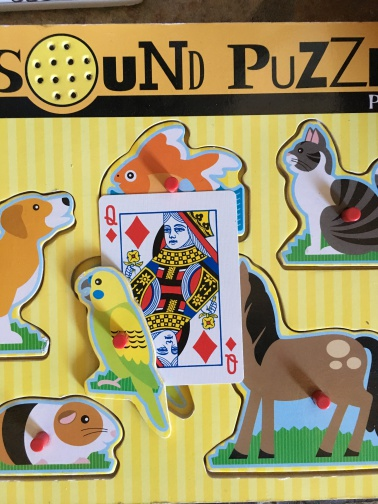queen: (97, 189, 245, 384)
